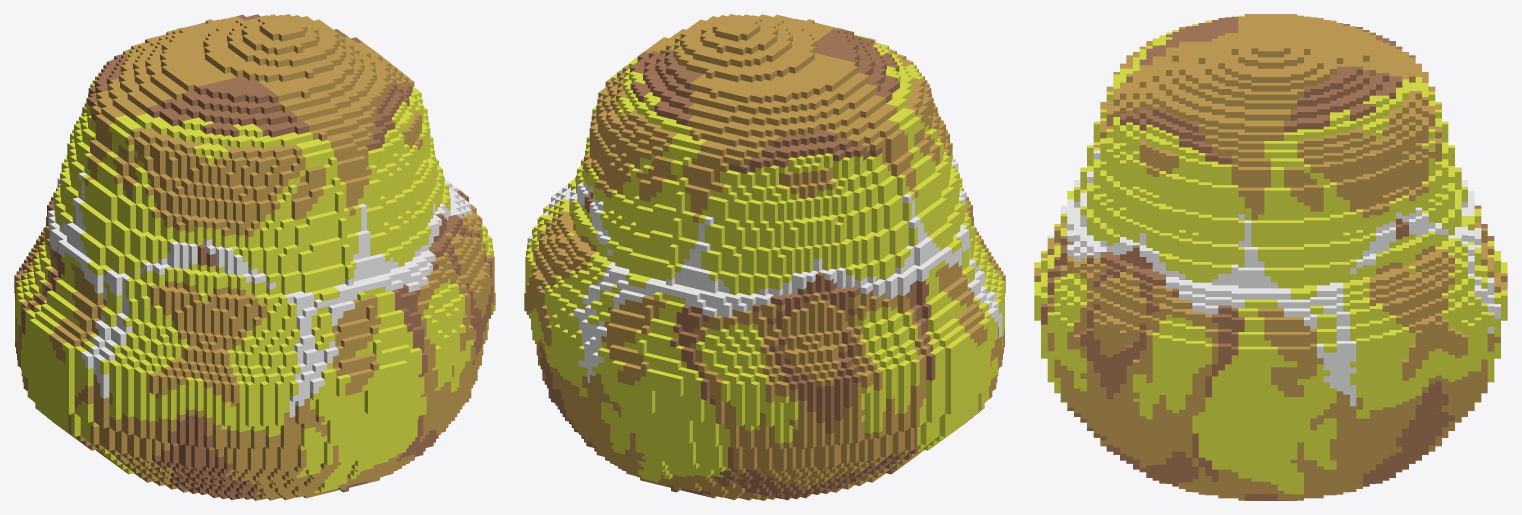
File: jazida_ouro_vazia.glb
3 renders of one model, left to right at view 1: azimuth 30°, elevation 25°; view 2: azimuth 150°, elevation 25°; view 3: azimuth 270°, elevation 25°, orthographic.
Visible parts, largest first — view 1: q0; view 2: q0; view 3: q0.
Part boxes in pixels (box(x1,y1,x2,y2)): q0: box(14, 14, 495, 500); q0: box(524, 14, 1005, 500); q0: box(1034, 14, 1507, 500).
Bounding box in the file's own units: 72 × 73 × 72.
1 material, 1 textured.
